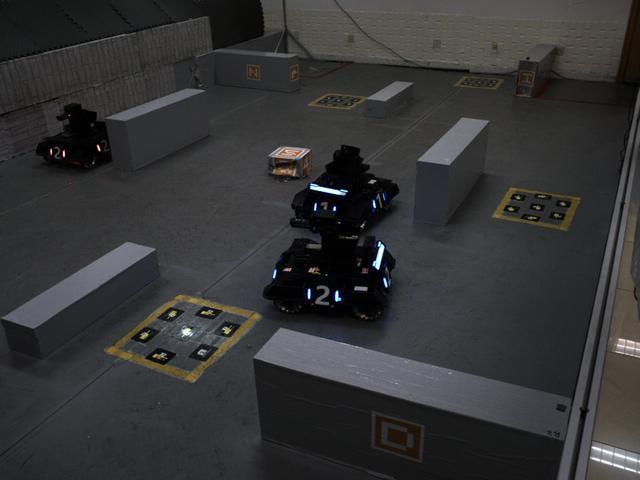armor: (302, 281, 345, 311), (309, 195, 338, 221), (379, 260, 396, 293), (368, 189, 391, 213), (43, 142, 69, 163), (92, 134, 112, 156)
